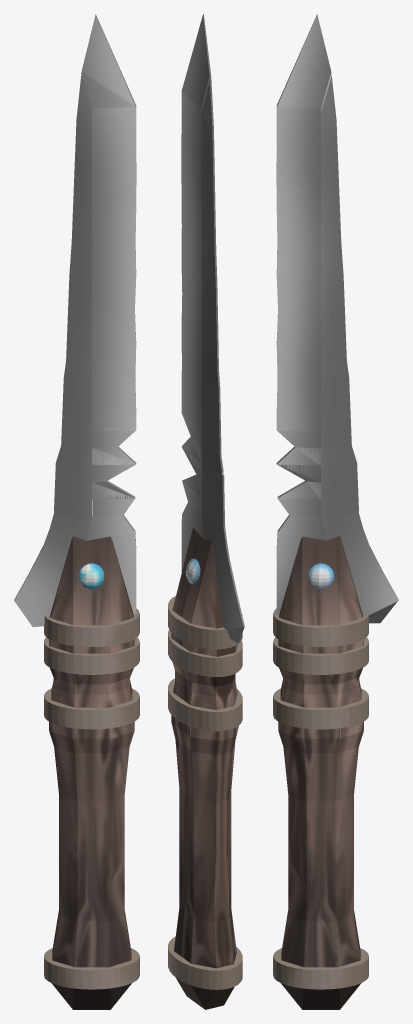
File: dagger.glb
3 views of the same model, side by side, from view 1: azimuth 90°, elevation 25°; view 2: azimuth 210°, elevation 25°; view 3: azimuth 270°, elevation 25° (orthographic).
Visible parts, largest first — view 1: Cube.001, Cube, Cylinder, Sphere; view 2: Cube.001, Cube, Cylinder, Sphere; view 3: Cube.001, Cube, Cylinder, Sphere.
Boxes of the visible parts, x1,y1,x2,y2 form: Cube.001: [14, 14, 136, 626]; Cube: [49, 536, 134, 1009]; Cylinder: [44, 608, 139, 989]; Sphere: [78, 563, 104, 589]; Cube.001: [181, 14, 244, 643]; Cube: [171, 527, 238, 1009]; Cylinder: [168, 596, 242, 989]; Sphere: [185, 558, 200, 584]; Cube.001: [276, 14, 398, 623]; Cube: [278, 536, 363, 1009]; Cylinder: [273, 608, 368, 989]; Sphere: [308, 563, 334, 589].
Bounding box in the file's own units: 0.2229 × 3.64 × 0.4179.
4 materials, 4 textured.
